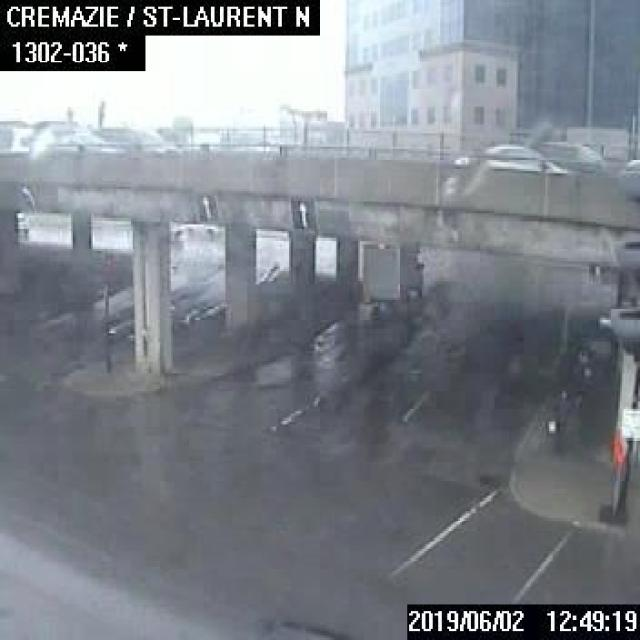construction: (606, 435, 628, 529)
vehicle: (358, 238, 426, 310), (450, 143, 566, 171), (90, 124, 180, 154), (536, 140, 604, 169), (40, 129, 121, 153)
